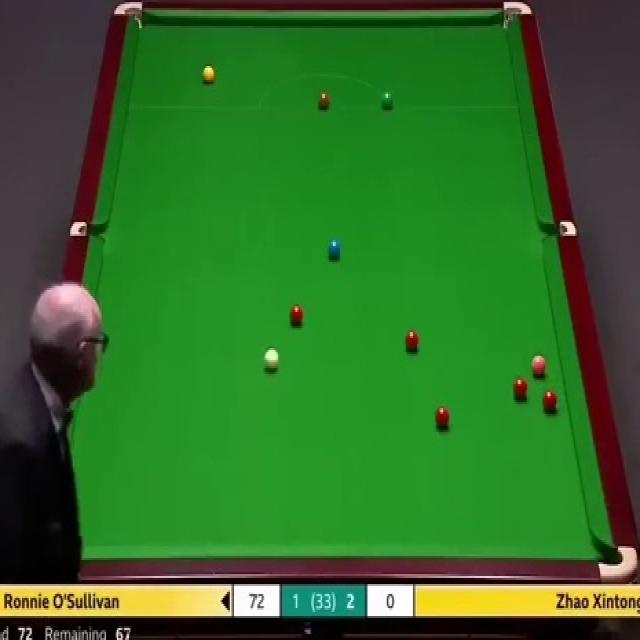blue-ball: (328, 236, 341, 262)
brown-ball: (317, 91, 331, 109)
green-ball: (380, 88, 395, 110)
pink-ball: (530, 355, 546, 377)
red-ball: (404, 328, 422, 356), (433, 407, 451, 432), (542, 389, 557, 411), (513, 376, 528, 396), (289, 303, 303, 324)
white-ball: (264, 346, 278, 373)
yellow-ball: (203, 66, 215, 85)
